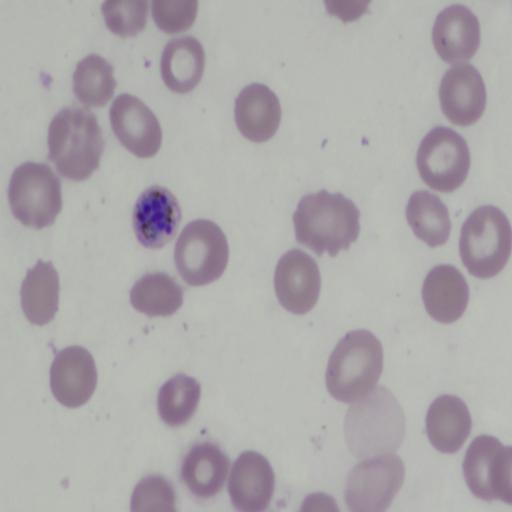Infected: (133, 186, 181, 246)
Uninfected: (291, 191, 358, 254), (327, 330, 385, 402), (47, 108, 104, 178), (174, 219, 229, 287), (459, 205, 511, 276), (8, 163, 61, 228), (416, 127, 470, 190), (109, 95, 163, 157), (344, 455, 404, 510), (49, 347, 98, 407), (273, 252, 320, 314), (464, 436, 508, 502), (19, 261, 61, 327), (233, 83, 281, 140), (439, 67, 486, 125), (228, 451, 274, 510), (432, 5, 481, 60), (424, 264, 469, 322), (425, 395, 470, 453), (129, 272, 183, 318), (406, 191, 451, 246), (160, 39, 206, 92), (182, 443, 227, 497), (157, 374, 201, 425), (72, 55, 115, 103), (102, 0, 146, 36), (130, 476, 174, 511), (151, 1, 198, 33)
